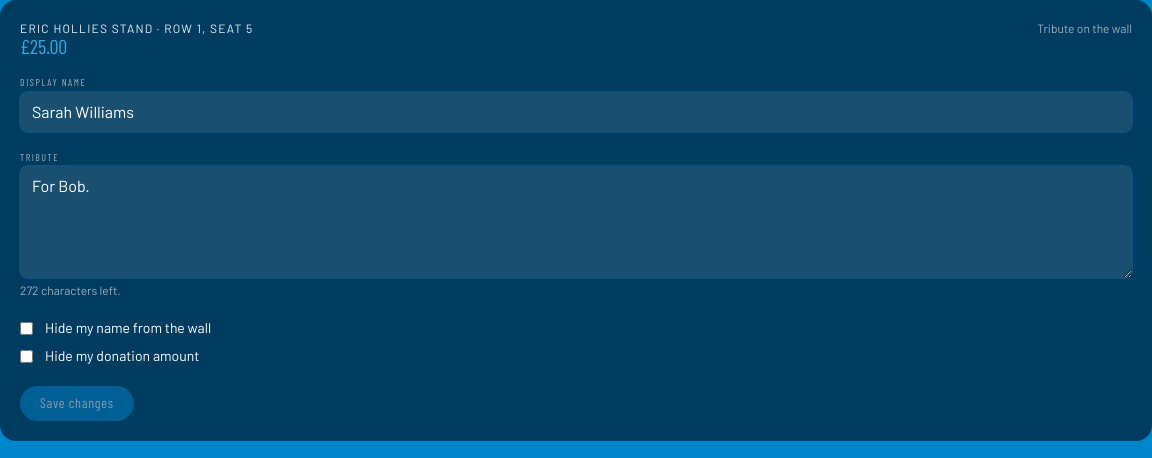
Test case: ManageDonationCard › surfaces an error when a mutation rejects
Click the checkbox labelled "Hide my donation amount": x=26, y=356 x1=20 y1=350 x2=33 y2=362
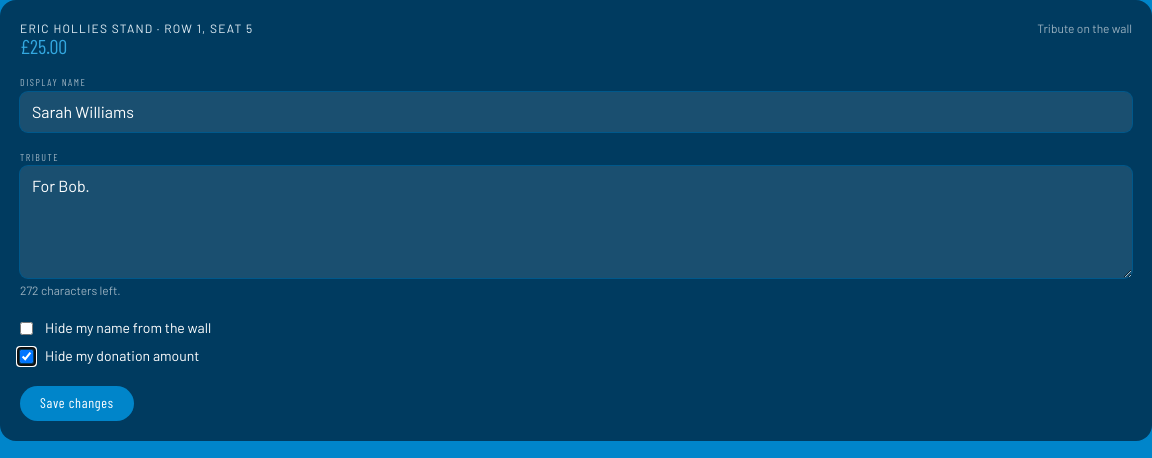
Click the button "Save changes": x=77, y=403 x1=20 y1=386 x2=134 y2=421
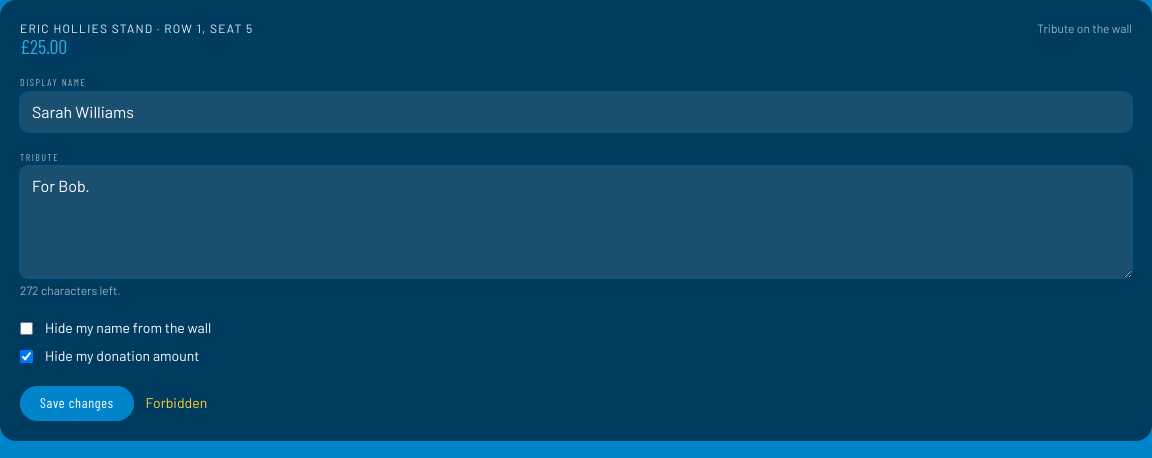
Now the message reads "Forbidden", box x1=146 y1=394 x2=207 y2=411
